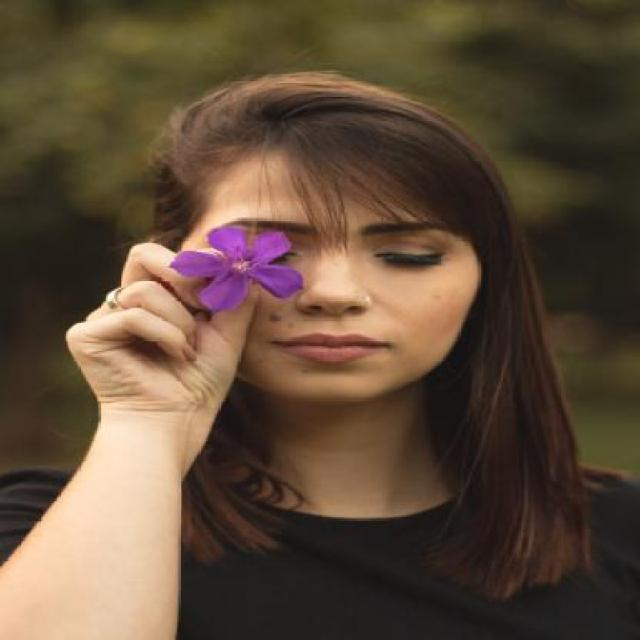closed-mouth: (265, 332, 394, 366)
